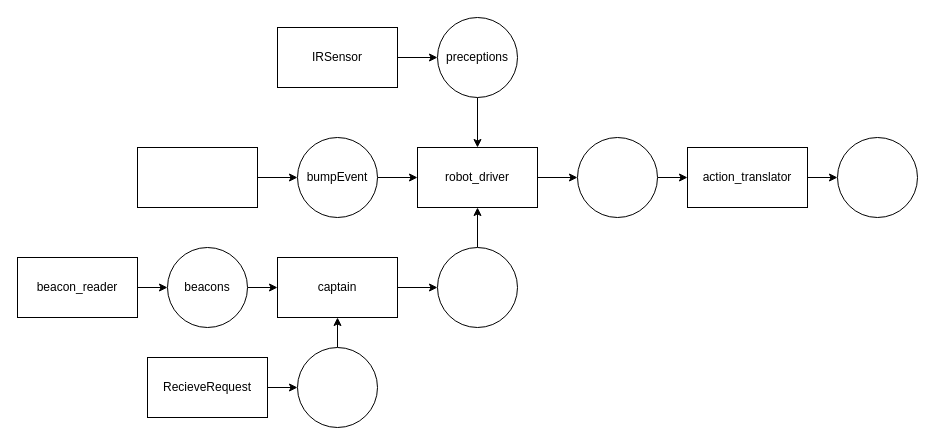
Image size: 935x445. Some labels were removed from this diagram. Each missing label, with the centre of its shape:
"actions" goes at [617,177].
"BumperSensor" goes at [197,177].
"cmd_vel" goes at [877,177].
"navigationMap" goes at [477,287].
"requests" goes at [337,387].
